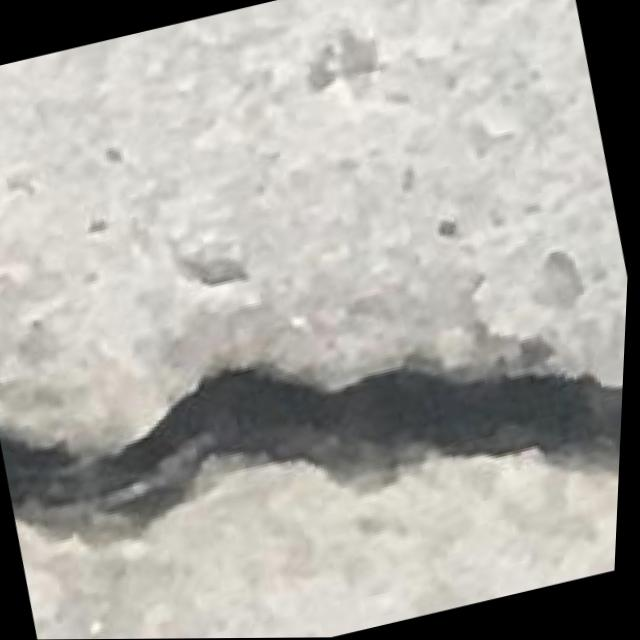Crack: (0, 262, 631, 640)
